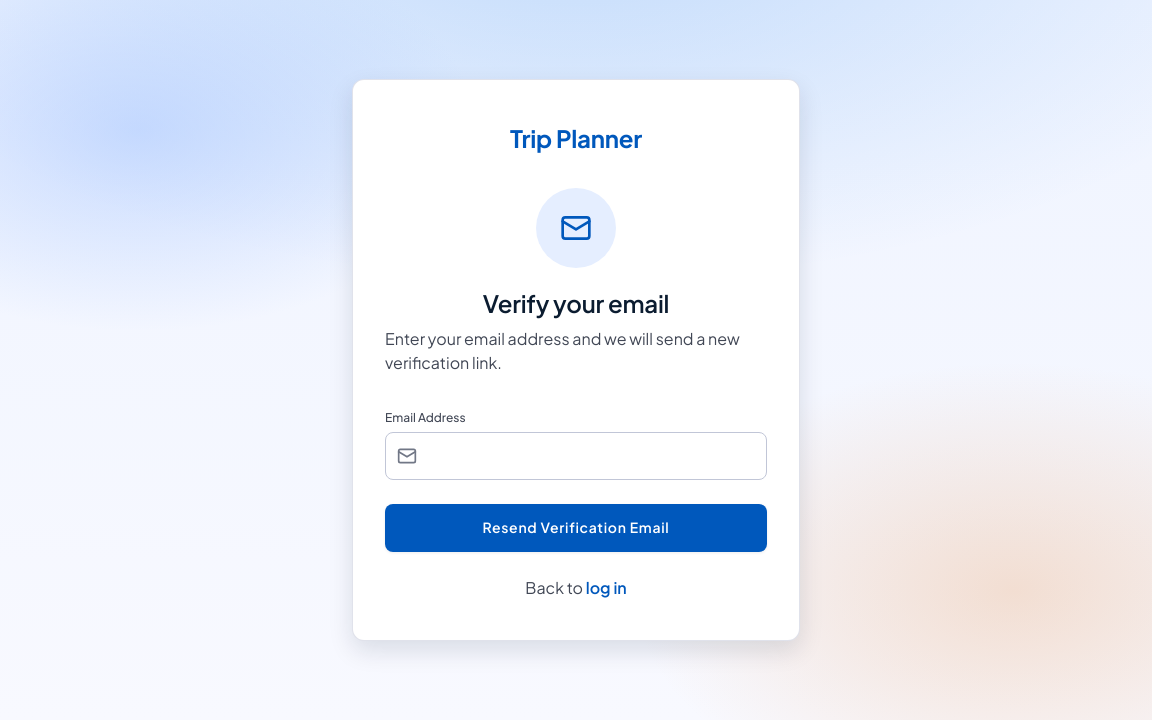
Test: VerifyEmailPage › replaces the resend form with the generic success message after submitting
The image size is (1152, 720).
Type "user@example.com" into the field labelled "Email Address" at (576, 456), box [385, 432, 767, 480]
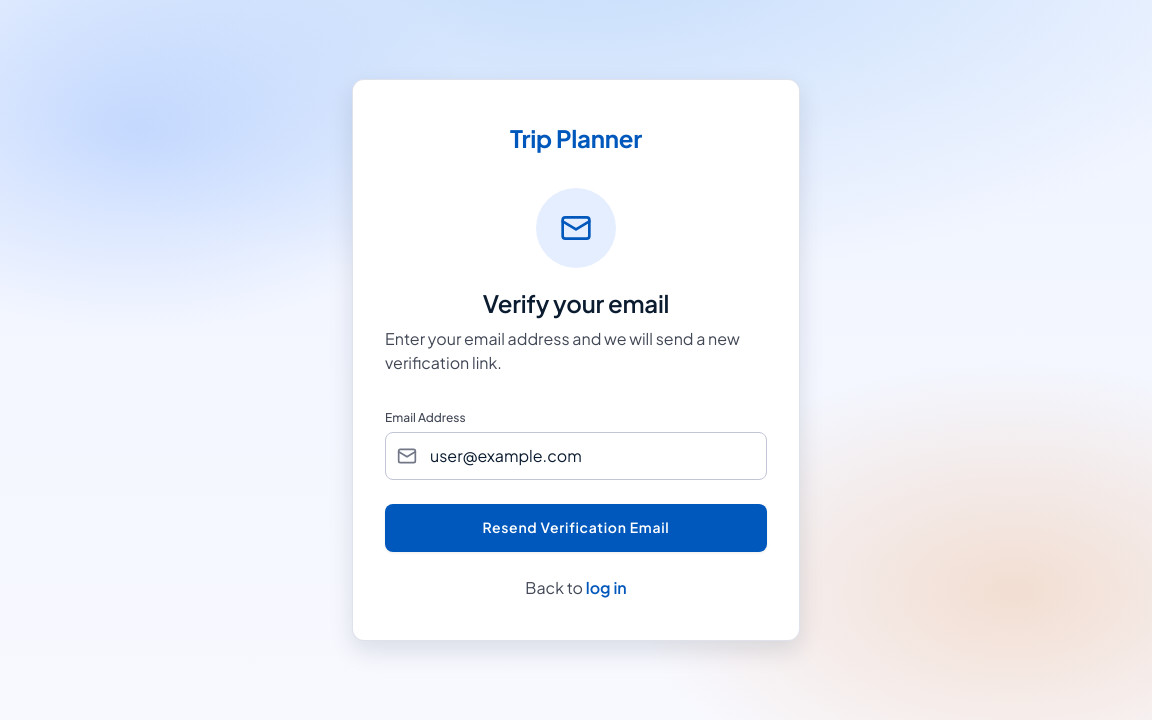
Click the button "Resend Verification Email" at (576, 528), box [385, 504, 767, 552]
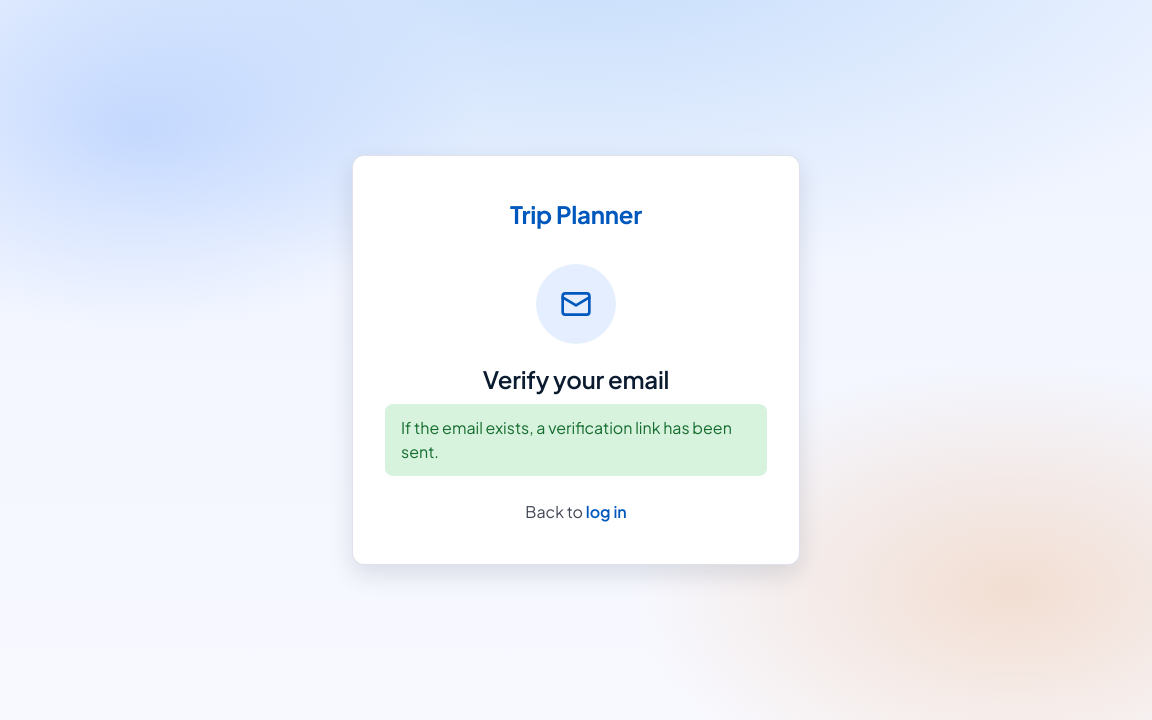
Result: the text "If the email exists, a verification link has been sent." is shown at [385, 404, 767, 476]
Result: the text labelled "email address" is gone
